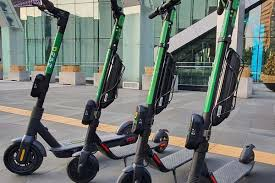kick_handler: (33, 1, 69, 30)
kick_neck: (200, 13, 236, 164), (142, 24, 170, 157), (89, 22, 120, 142), (28, 35, 61, 130)
kick_wheel: (3, 138, 42, 174), (68, 152, 97, 183), (154, 128, 169, 151)
